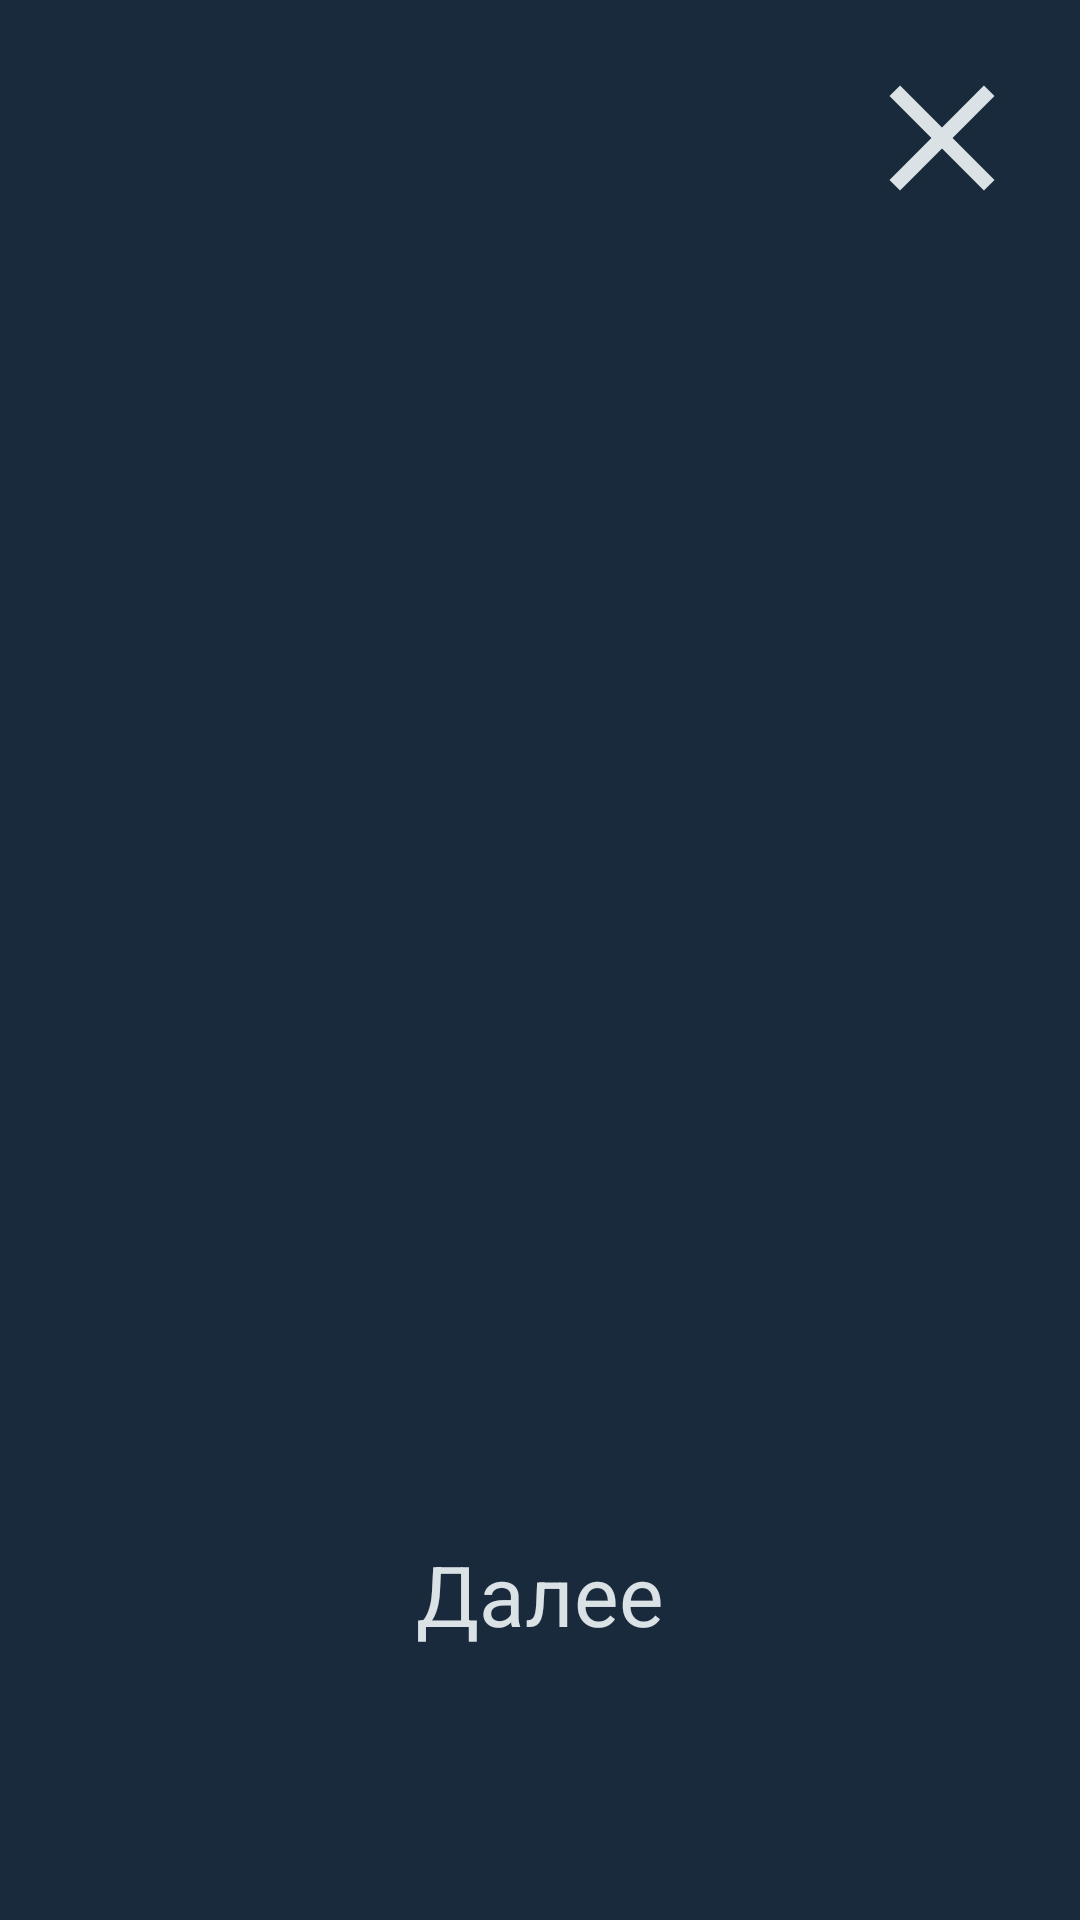

Icons on this 1080px×1920px Android screen, each with the point to tap as (x,y):
close: (942,138)
